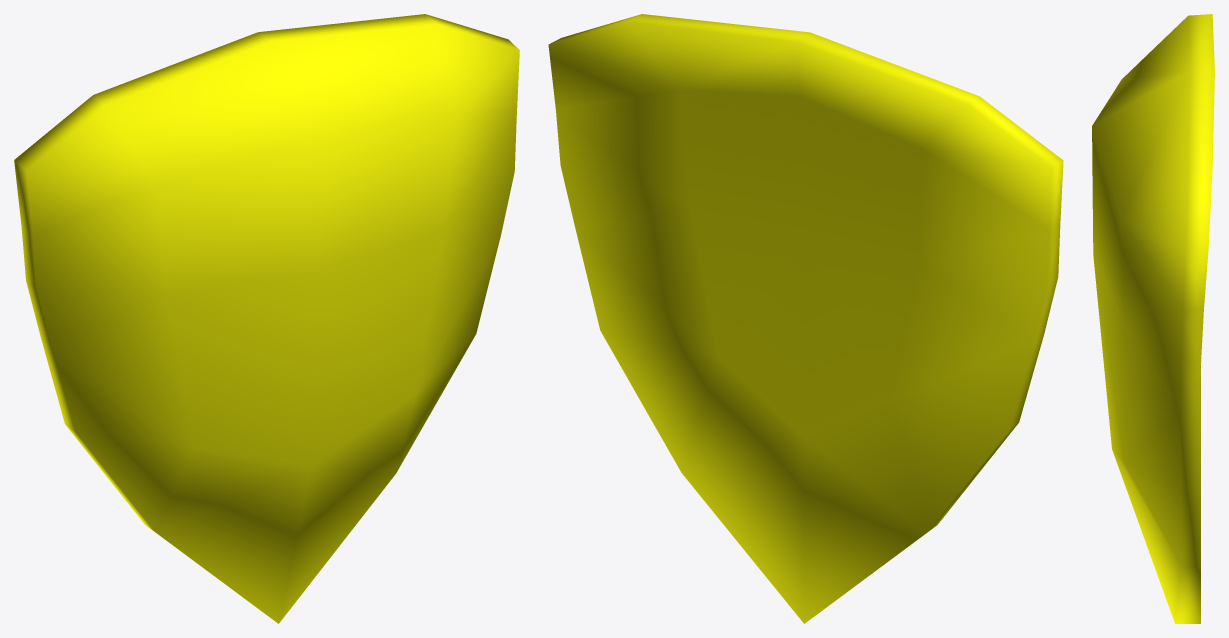
File: Nature_Shield.glb
3 renders of one model, left to right at view 1: azimuth 30°, elevation 25°; view 2: azimuth 150°, elevation 25°; view 3: azimuth 270°, elevation 25°, orthographic. The views are drawn at different scales.
Parts seen in each view (by area): view 1: Nature_Shield; view 2: Nature_Shield; view 3: Nature_Shield.
Boxes of the visible parts, left/top/right/bottom form: Nature_Shield: left=14, top=14, right=519, bottom=623; Nature_Shield: left=548, top=14, right=1063, bottom=623; Nature_Shield: left=1092, top=14, right=1214, bottom=623.
Size of the model in its own units: 1.16 by 1.29 by 0.2606.
1 material, 1 textured.
